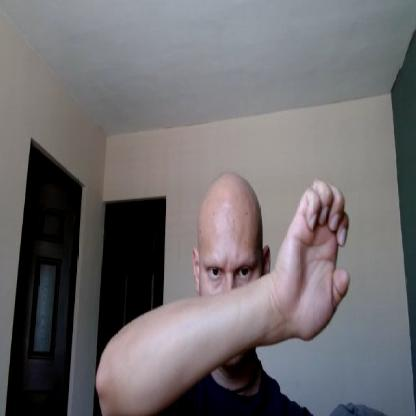E: (277, 179, 351, 340)
